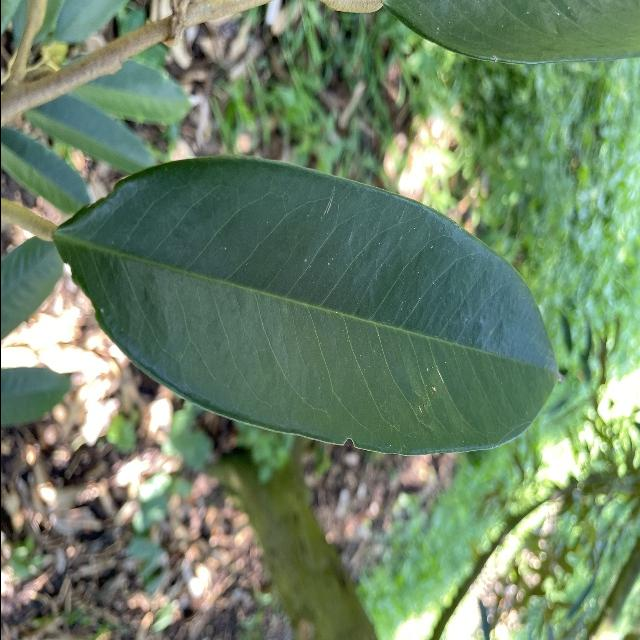No Disease: (45, 143, 571, 463)
